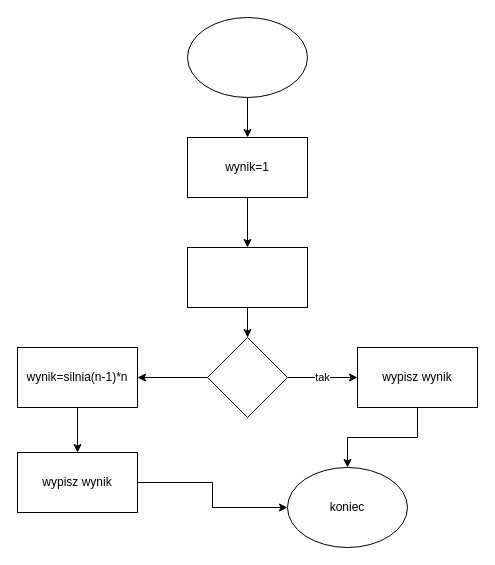
The diagram is 495 pixels wide and 565 high, and some of its shapes have lost their labels. Here are the shapes that lost their labels. From the top down, the centre of each, then its label:
(247,57): start
(247,277): wczytaj n
(247,377): czy n =1
